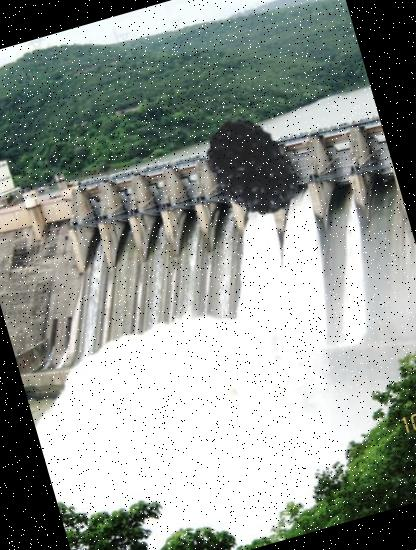Mulberry: (187, 104, 318, 235)
